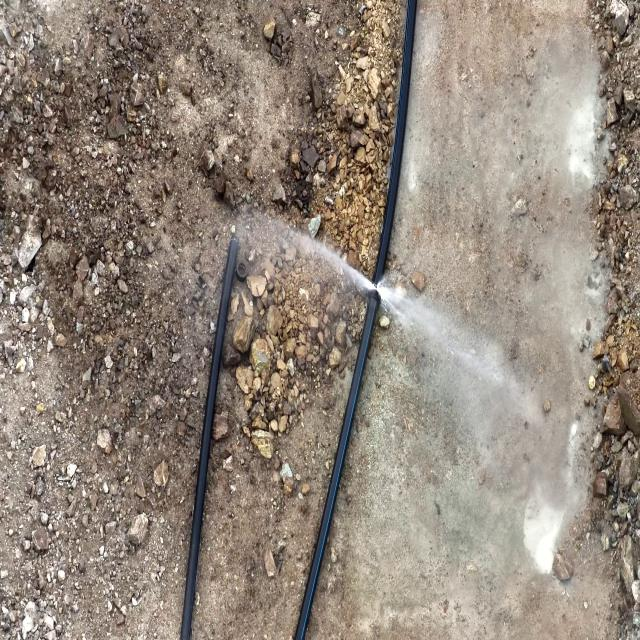leak: (274, 212, 443, 351)
